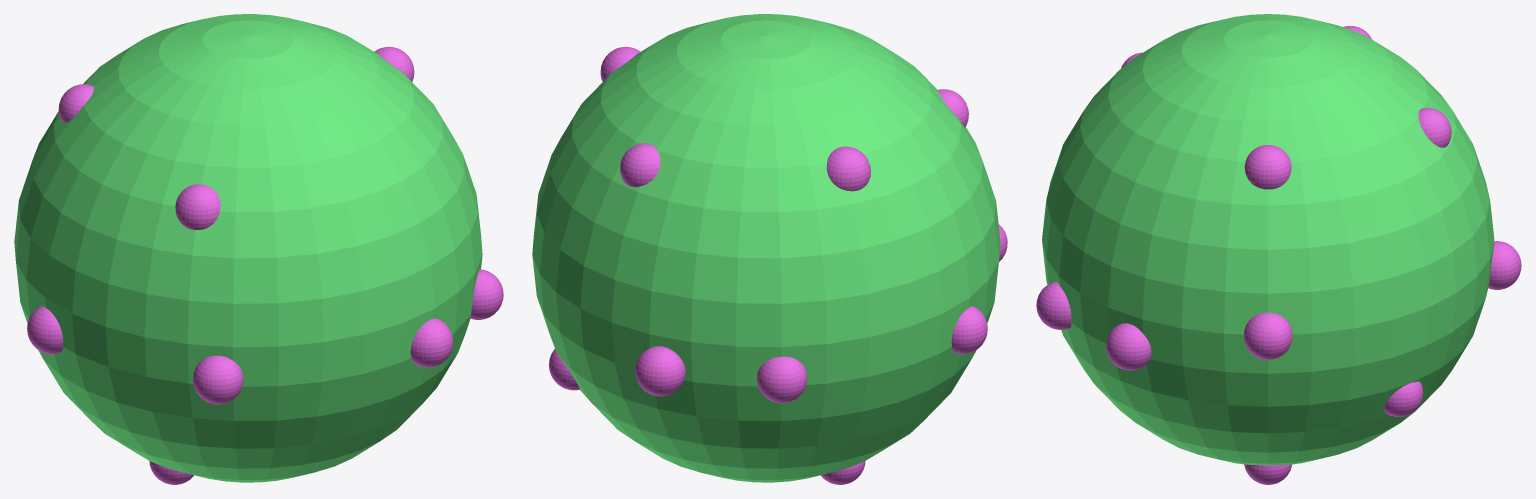
Rendered from ThomsonModel.glb.
3 renders of one model, left to right at view 1: azimuth 30°, elevation 25°; view 2: azimuth 150°, elevation 25°; view 3: azimuth 270°, elevation 25°, orthographic. The views are drawn at different scales.
Visible parts, largest first — view 1: Sphere, Sphere.012; view 2: Sphere, Sphere.012; view 3: Sphere, Sphere.012.
Part boxes in pixels (x1,y1,x2,y2): Sphere: [14, 14, 482, 482]; Sphere.012: [27, 46, 503, 484]; Sphere: [532, 14, 1000, 482]; Sphere.012: [549, 46, 1007, 484]; Sphere: [1042, 14, 1494, 465]; Sphere.012: [1036, 25, 1521, 484].
Size of the model in its own units: 6.37 by 5.93 by 6.26.
